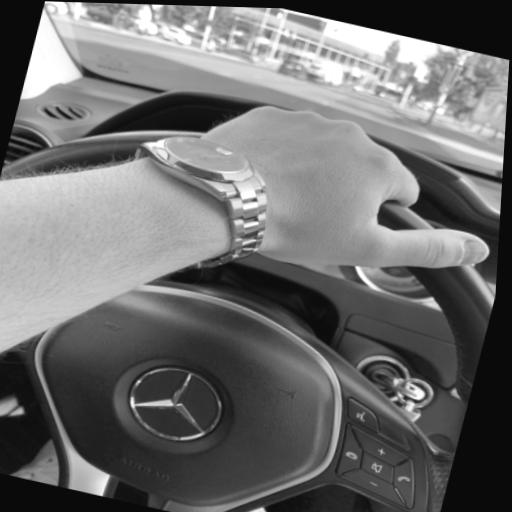Hands-on-the-Wheel: (103, 45, 510, 316)
